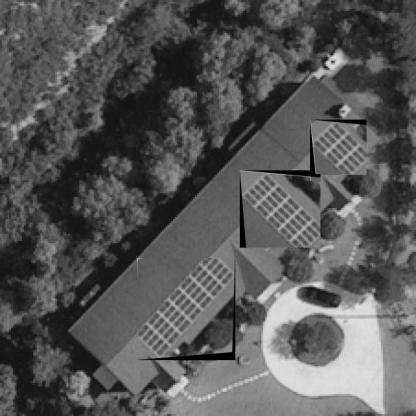solar-pv-panel: (137, 258, 235, 358), (242, 172, 320, 248), (312, 122, 367, 174)
